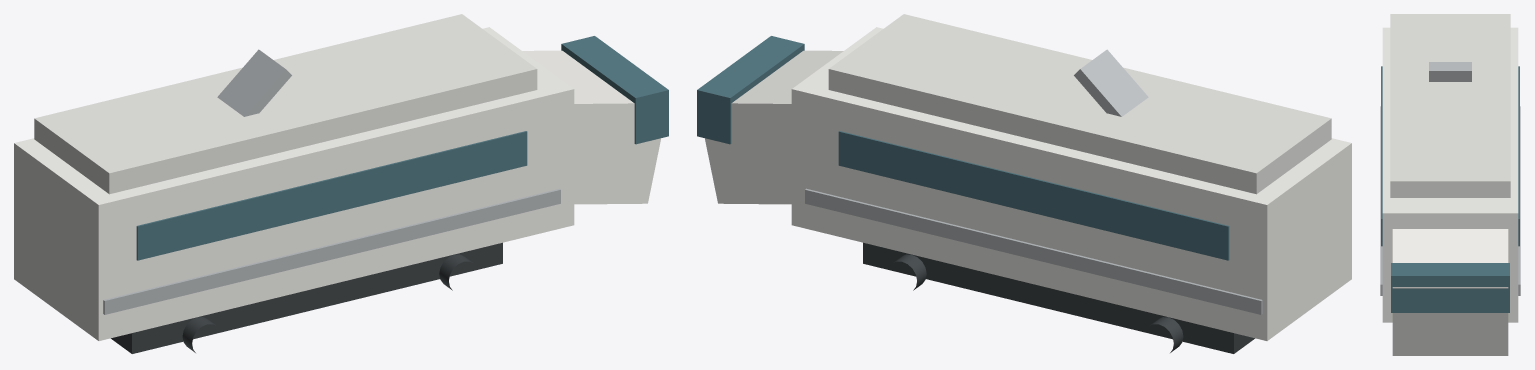
The model's file is ice-s.glb.
The picture shows the model from 3 angles, left to right: view 1: azimuth 30°, elevation 25°; view 2: azimuth 150°, elevation 25°; view 3: azimuth 270°, elevation 25°; orthographic projection. The views are drawn at different scales.
Parts seen in each view (by area): view 1: body_shell, roof, window_band, front_nose, undercarriage, livery_stripe, front_glass, measurement_pantograph; view 2: body_shell, roof, window_band, front_nose, undercarriage, livery_stripe, front_glass, measurement_pantograph; view 3: roof, front_nose, body_shell, front_glass, measurement_pantograph, window_band, livery_stripe.
Boxes of the visible parts, x1,y1,x2,y2 form: body_shell: (14,27,574,340); roof: (34,14,537,194); window_band: (136,131,527,260); front_nose: (522,50,660,204); undercarriage: (111,242,502,353); livery_stripe: (103,188,560,314); front_glass: (561,36,668,144); measurement_pantograph: (217,49,291,116); body_shell: (791,27,1351,340); roof: (828,14,1331,194); window_band: (838,131,1229,260); front_nose: (705,50,843,204); undercarriage: (863,242,1254,353); livery_stripe: (805,188,1262,314); front_glass: (697,36,804,144); measurement_pantograph: (1074,49,1148,116); roof: (1390,14,1510,197); front_nose: (1392,229,1508,355); body_shell: (1382,27,1518,322); front_glass: (1391,263,1509,312); measurement_pantograph: (1429,62,1471,81); window_band: (1381,66,1519,246); livery_stripe: (1380,106,1520,295).
Size of the model in its own units: 3.45 by 1.38 by 0.91.
